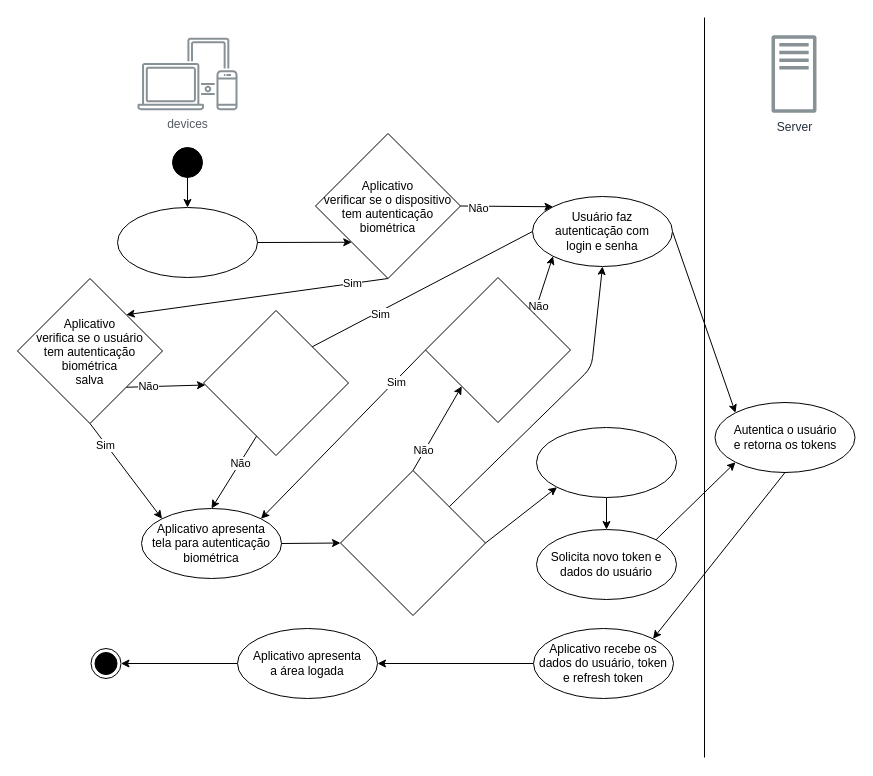
Some shapes in this 873 by 776 pixel diagram are drawn without their labels. The shapes that lost their labels are listed below. From the top down, each one's centre as x and y in pixels, then its label:
At point 187,242: "Usuário abre o aplicativo".
At point 497,349: "Aplicativo pergunta ao usuário se deseja tentar novamente".
At point 275,383: "Armazenada configuração para não perguntar se deseja utilizar biometria".
At point 606,462: "Carrega o refresh token".
At point 413,543: "Usuário autenticado biométricamente com suesso".
